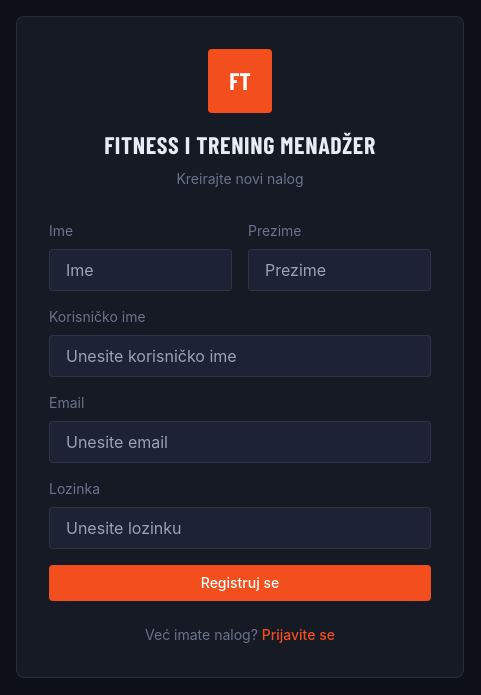
Register Page › disables submit button while loading
In the field with placeholder "Ime": (140, 270) [49, 249, 232, 291], type "John"
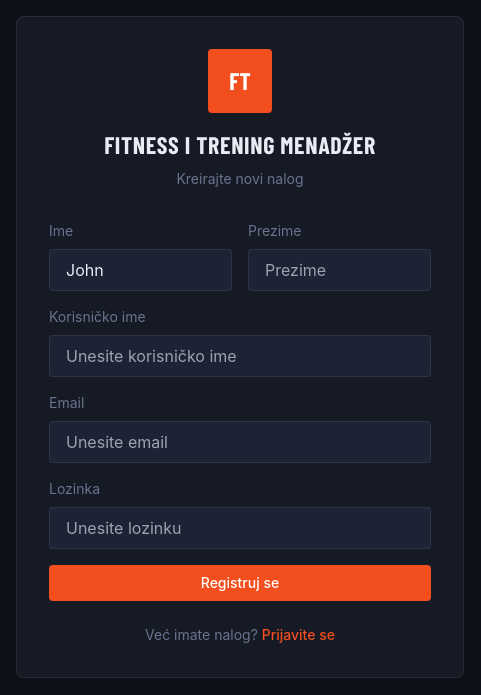
In the field with placeholder "Prezime": (340, 270) [248, 249, 431, 291], type "Doe"
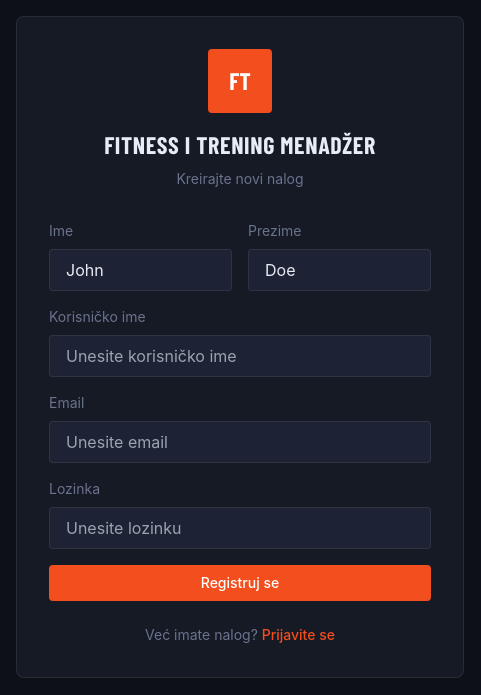
In the field with placeholder "Unesite korisničko ime": (240, 356) [49, 335, 431, 377], type "johndoe"
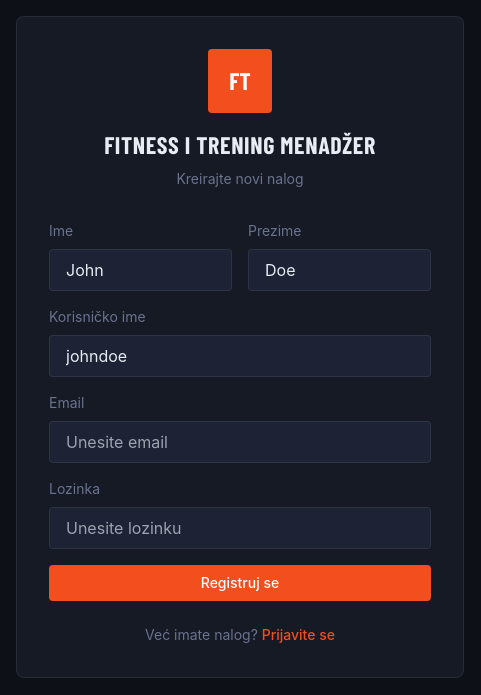
In the field with placeholder "Unesite email": (240, 442) [49, 421, 431, 463], type "john@example.com"
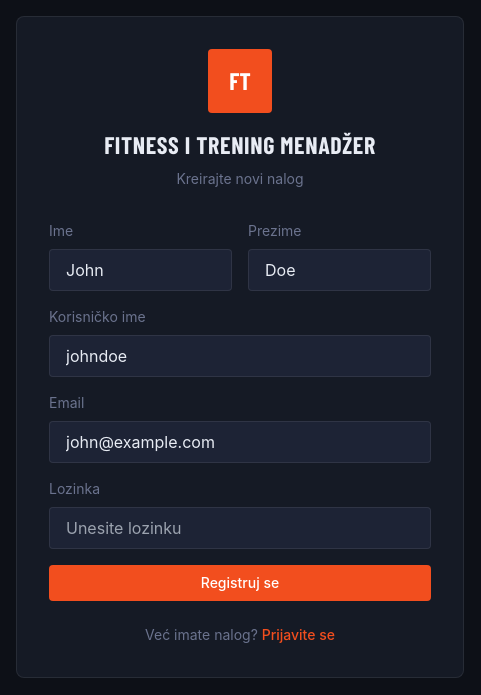
In the password field with placeholder "Unesite lozinku": (240, 528) [49, 507, 431, 549], type "password123"
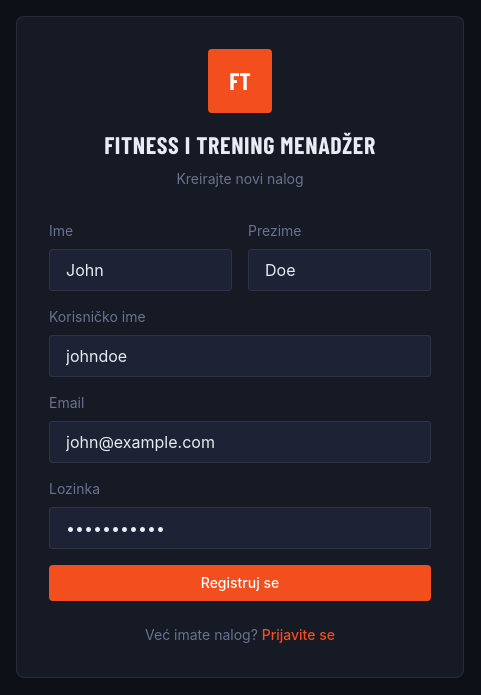
Click the button "Registruj se": (240, 583) [49, 565, 431, 601]
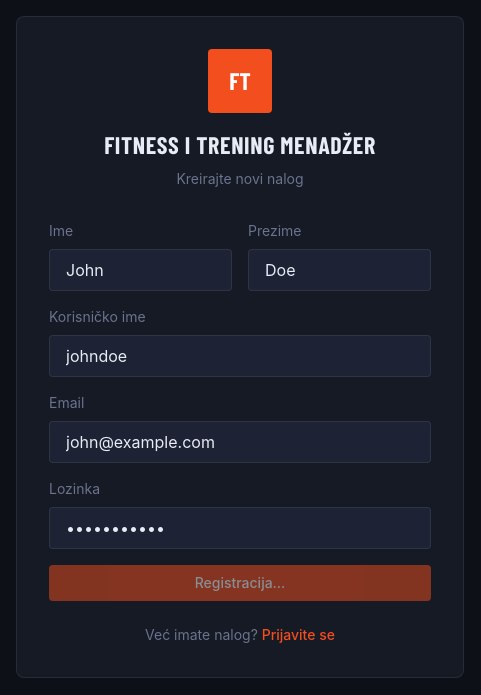
Expected: the button named "registruj se" is disabled, [49, 565, 431, 601]
